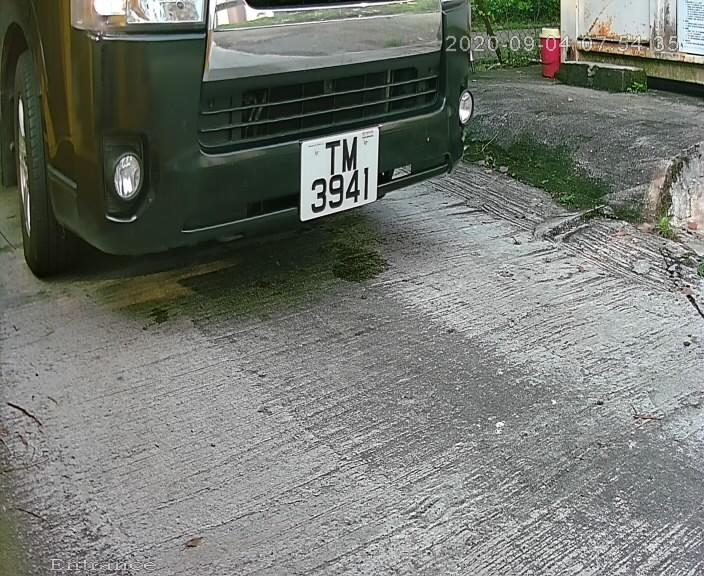Car: (19, 1, 538, 319)
License Plate: (290, 121, 387, 227)
